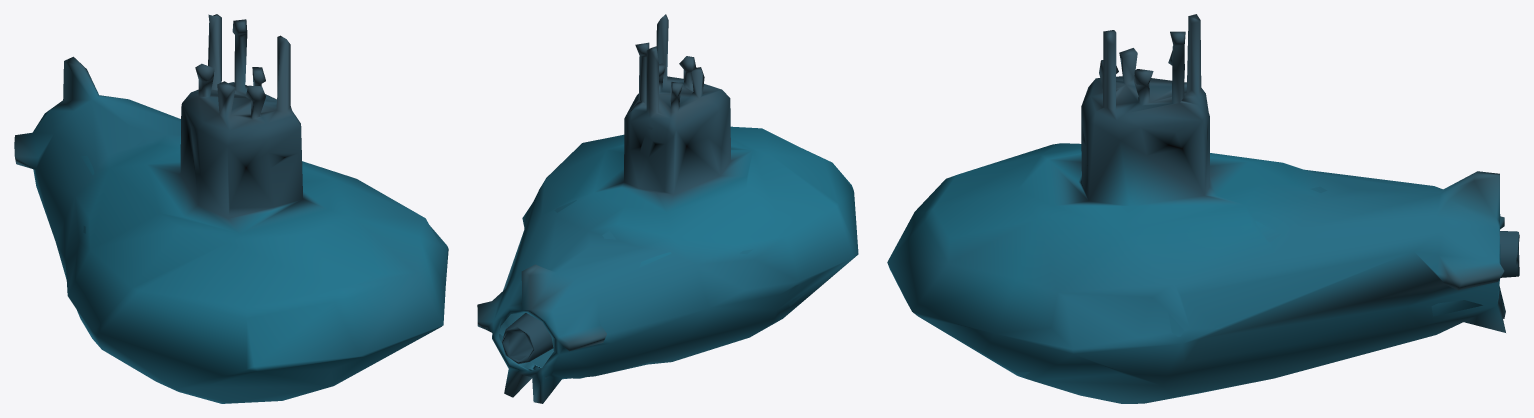
The model's file is gen3d-submarine-lod1.glb.
The picture shows the model from 3 angles, left to right: view 1: azimuth 30°, elevation 25°; view 2: azimuth 150°, elevation 25°; view 3: azimuth 270°, elevation 25°; orthographic projection. The views are drawn at different scales.
Parts seen in each view (by area): view 1: part_0; view 2: part_0; view 3: part_0.
Boxes of the visible parts, bbox=[...] form: part_0: bbox=[14, 14, 448, 403]; part_0: bbox=[477, 14, 858, 403]; part_0: bbox=[887, 14, 1519, 403].
Size of the model in its own units: 1.05 by 0.9963 by 1.55.
